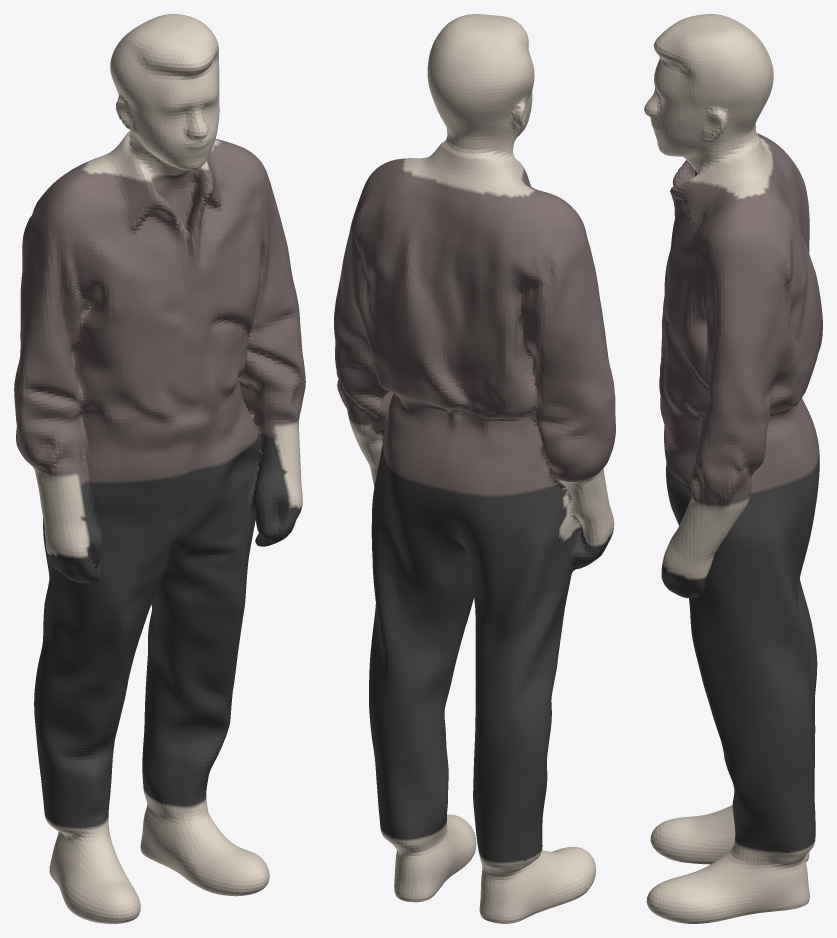
File: shirt6_pant9.glb
The picture shows the model from 3 angles, left to right: view 1: azimuth 30°, elevation 25°; view 2: azimuth 150°, elevation 25°; view 3: azimuth 270°, elevation 25°; orthographic projection.
Parts seen in each view (by area): view 1: geometry_0; view 2: geometry_0; view 3: geometry_0.
Boxes of the visible parts, bbox=[...] form: geometry_0: bbox=[14, 14, 305, 923]; geometry_0: bbox=[334, 14, 615, 923]; geometry_0: bbox=[644, 14, 822, 923].
Size of the model in its own units: 0.6743 by 1.99 by 0.3729.
